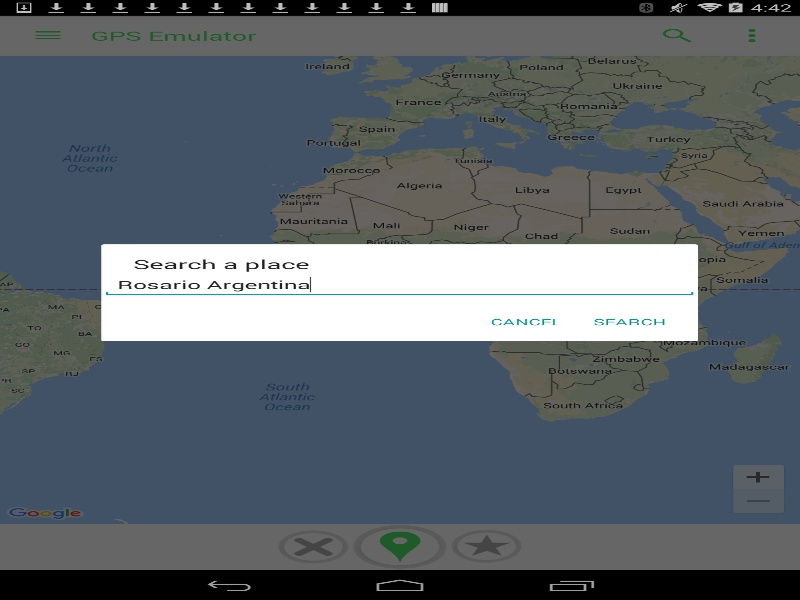Button: (577, 305, 682, 338), (474, 305, 577, 338)
Input: (101, 272, 698, 297)
